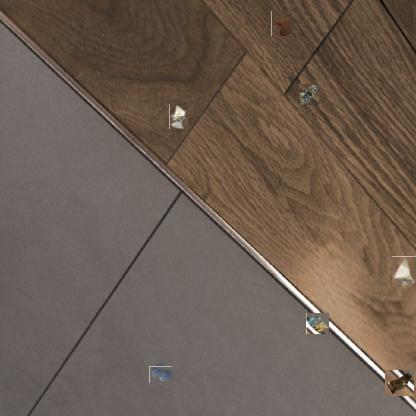dirty: (386, 370, 416, 396), (392, 256, 416, 287), (306, 312, 329, 334), (169, 103, 188, 129), (299, 84, 319, 104)
liquid: (271, 10, 294, 36), (150, 364, 171, 384)
